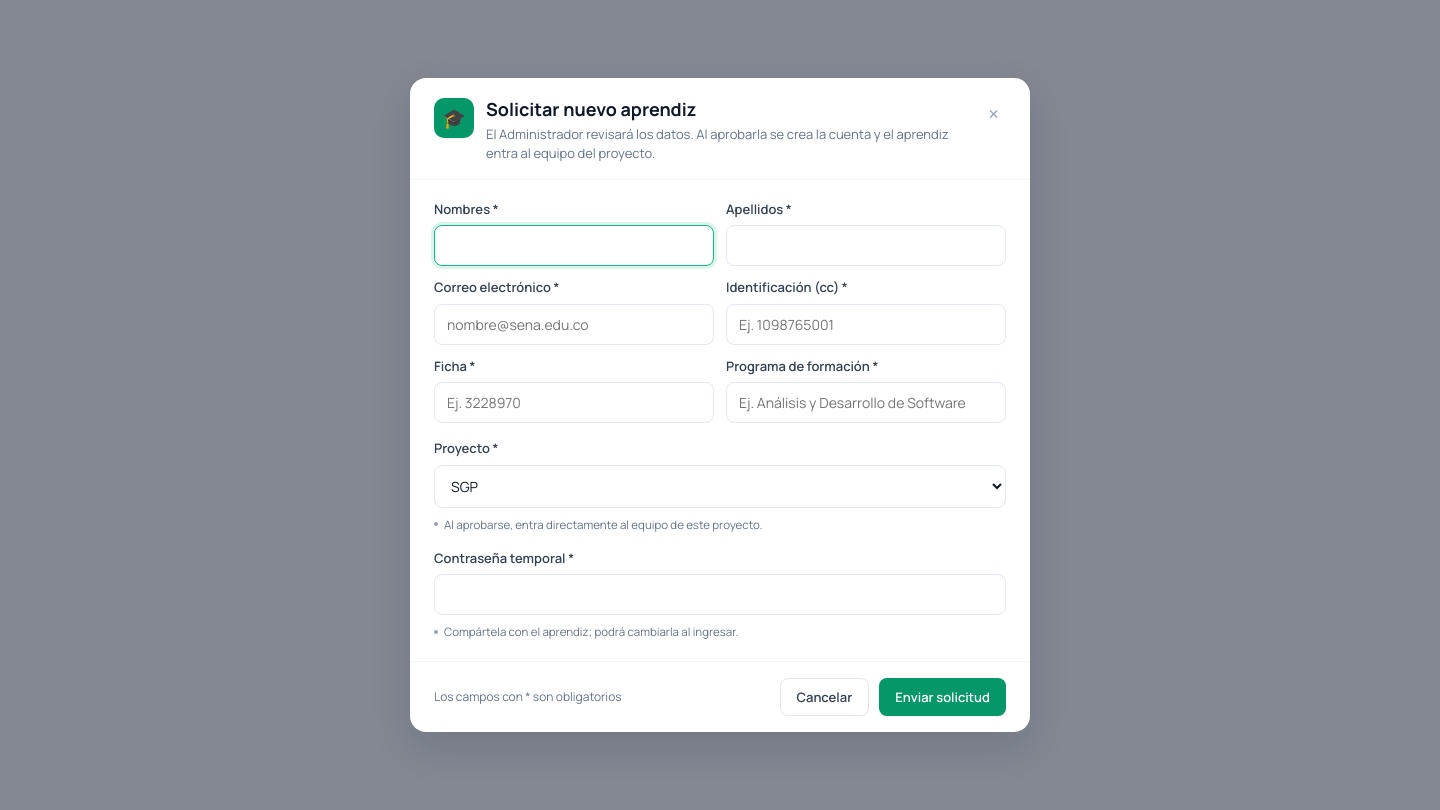
Test: NuevoAprendizModal (Instructor) › should not send the request while required fields are missing
This screenshot has width=1440, height=810.
Click the button "Enviar solicitud": (943, 696) top-left (879, 678), bottom-right (1006, 716)
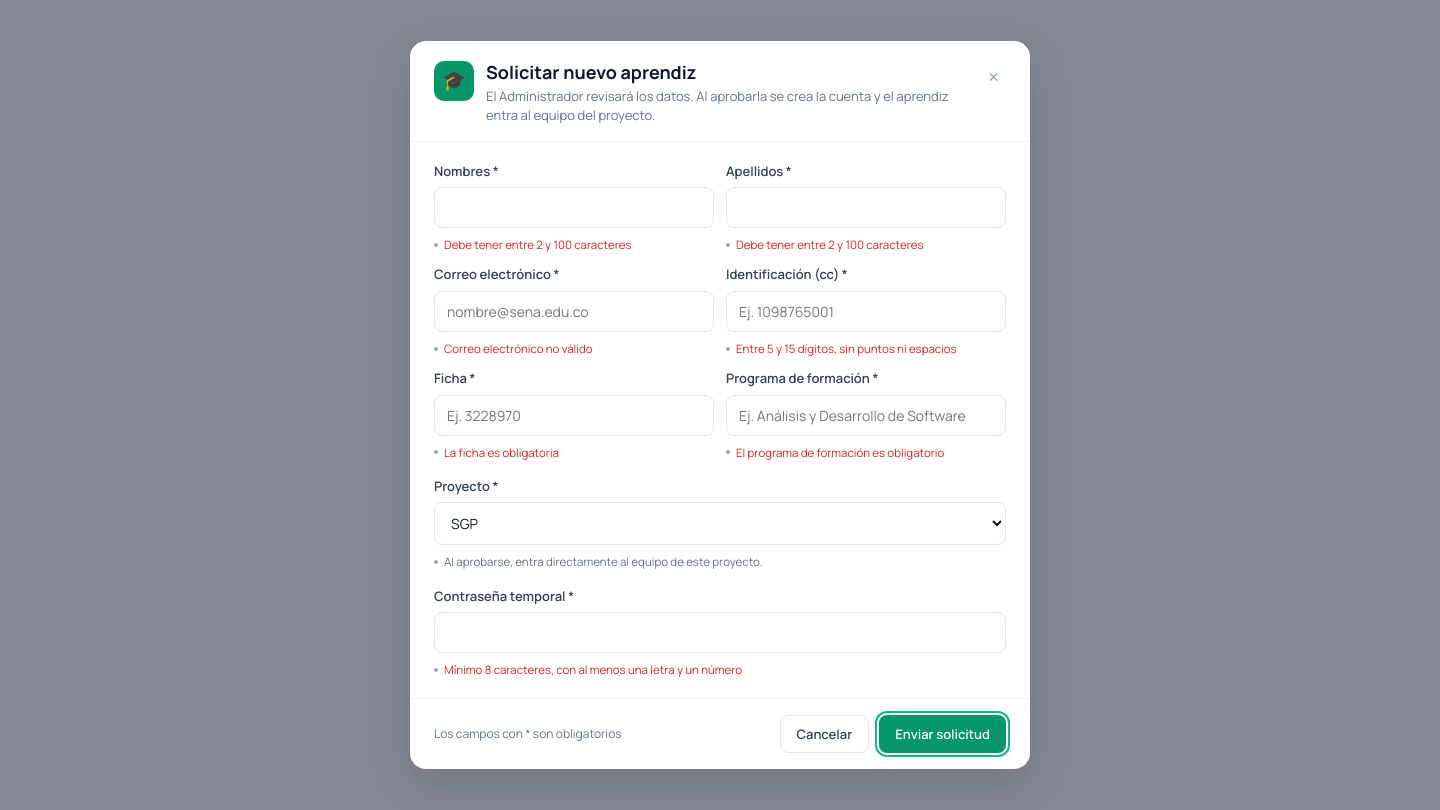
Check: the text "La ficha es obligatoria" is shown, box top-left (444, 445), bottom-right (559, 460)
